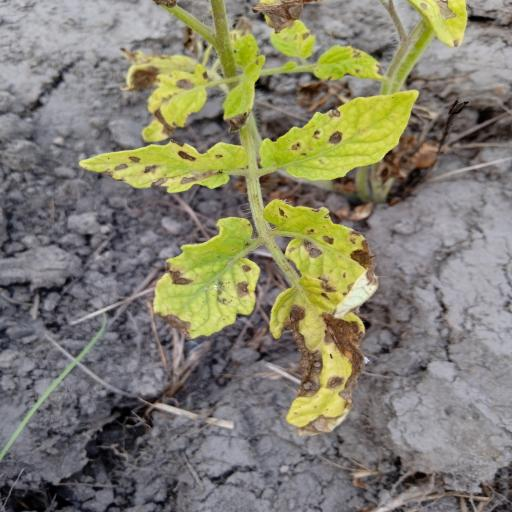Tomato_Brown_Spots: (263, 275, 375, 442), (262, 88, 421, 187), (147, 217, 261, 345), (262, 194, 392, 306), (76, 137, 248, 197)
